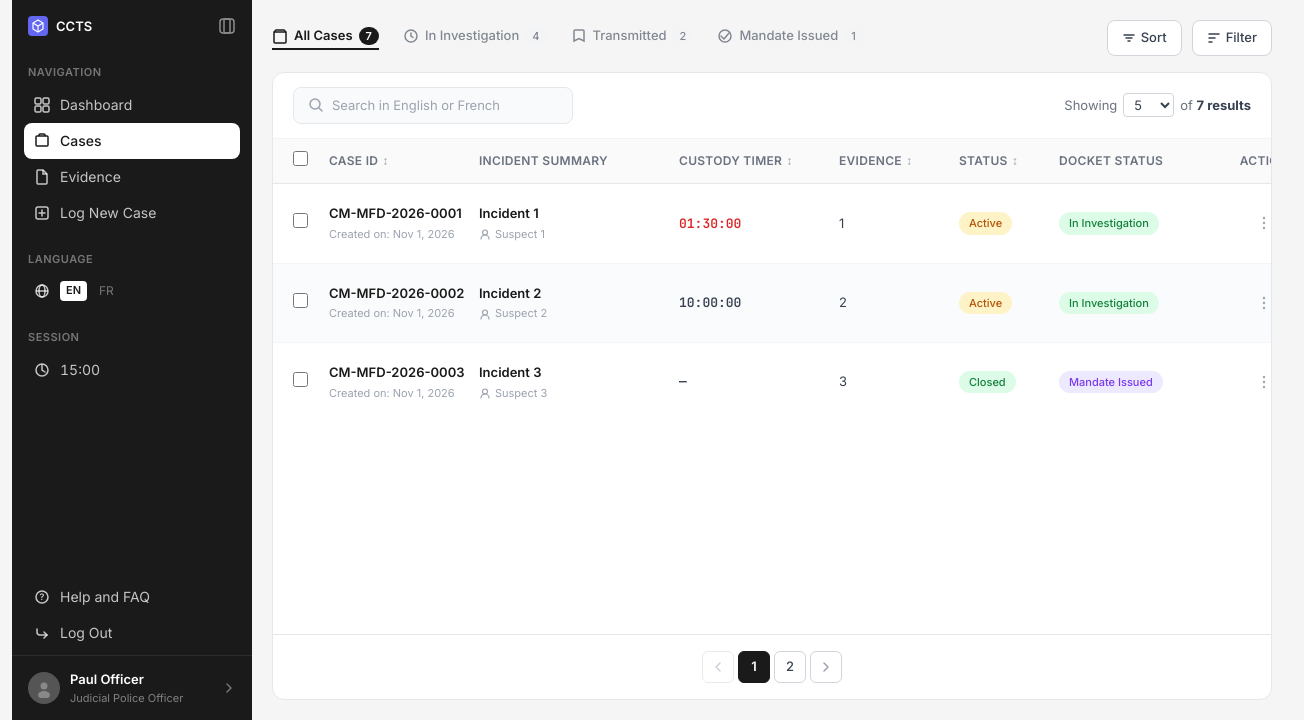
Test: Cases page › the row menu offers only real actions and opens the case
Expected: the text "Incident 1" is shown, [479, 205, 539, 221]
Click the button named "Actions for case CM-MFD-2026-0003" at (1264, 382), box [1248, 366, 1280, 398]
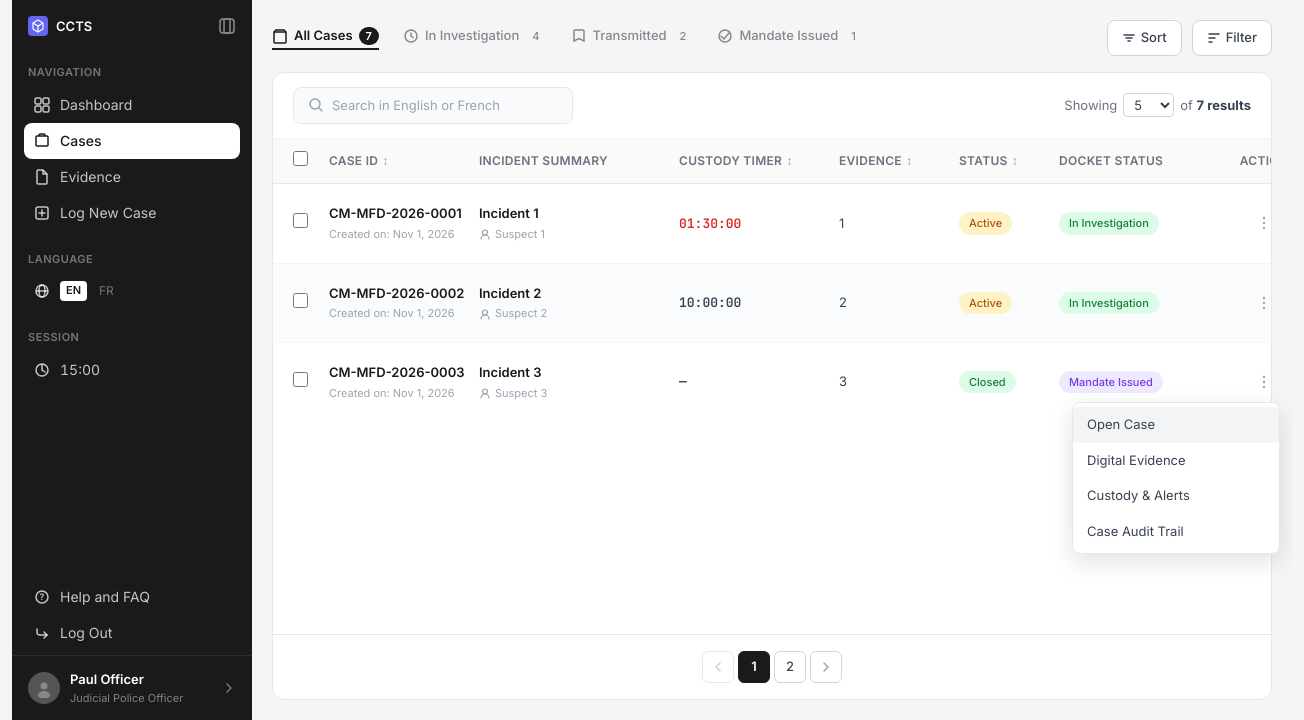
Press Escape in the menu, box [1072, 402, 1280, 554]
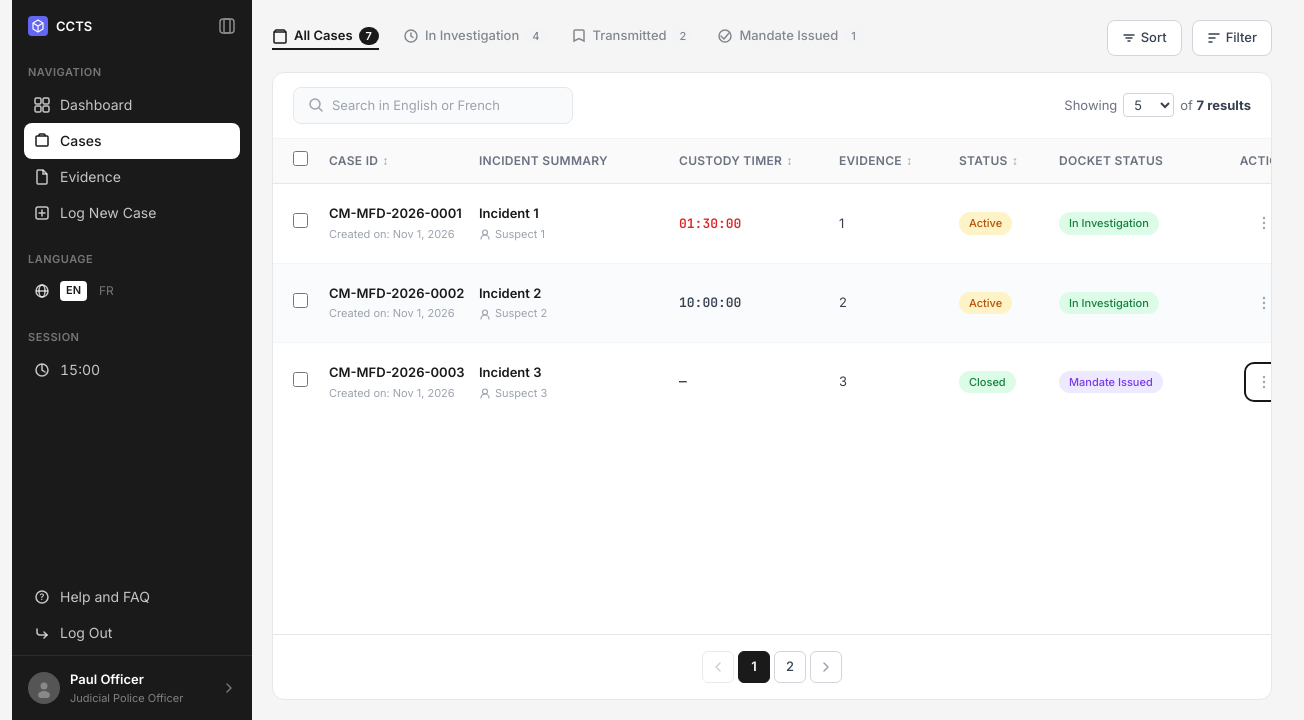
Now the menu is gone
Click the button named "Actions for case CM-MFD-2026-0001" at (1264, 223), box [1248, 207, 1280, 239]
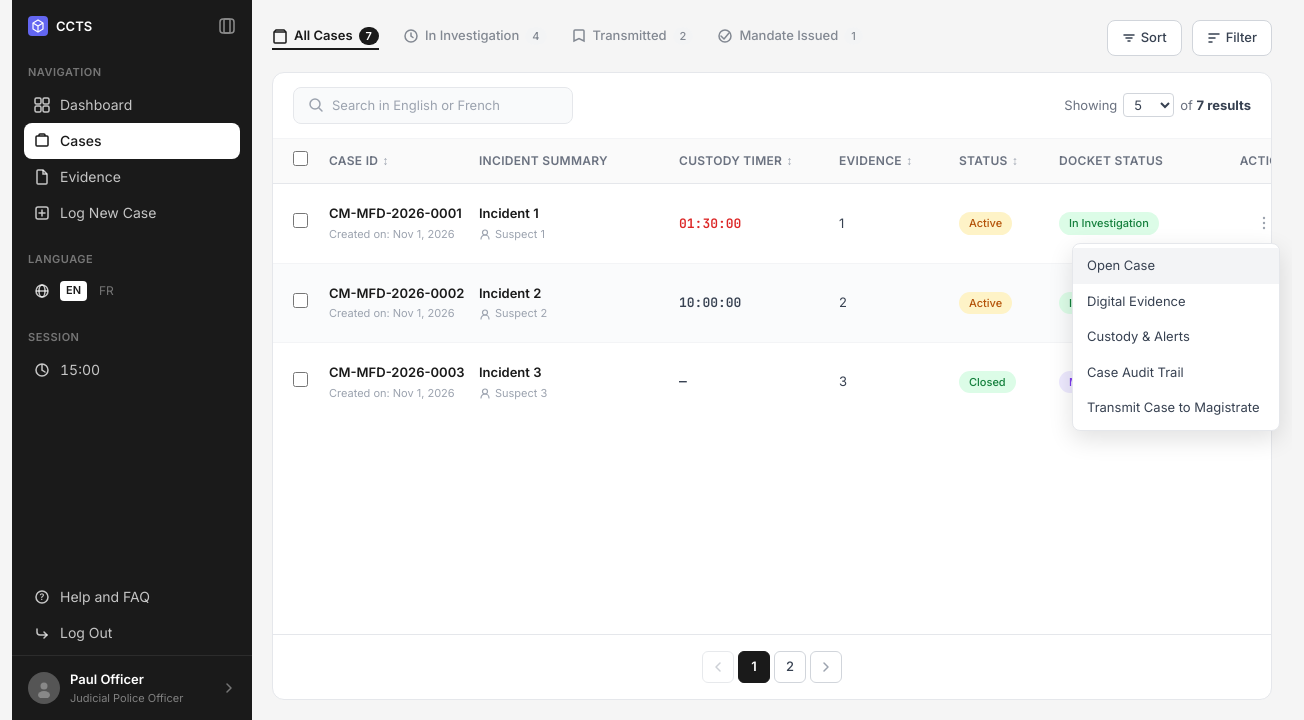
Now the menu items read "Open Case", "Digital Evidence", "Custody & Alerts", "Case Audit Trail", "Transmit Case to Magistrate", in this order
Click the menu item "Open Case" at (1176, 266), box [1073, 248, 1279, 284]
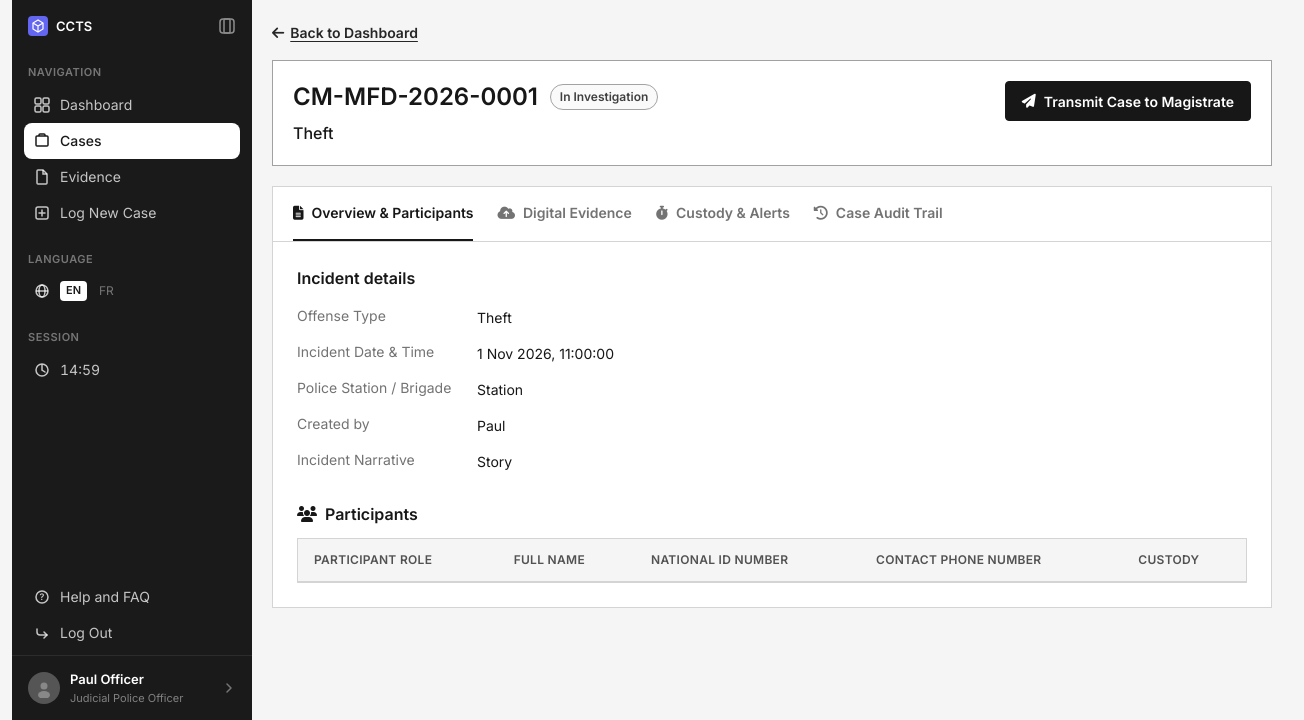
Now the tab "Overview & Participants" is shown, box [293, 187, 474, 241]
